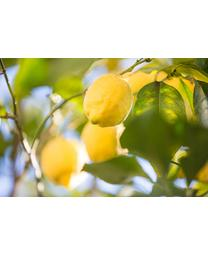lemon: (80, 75, 134, 127), (40, 139, 86, 189)
